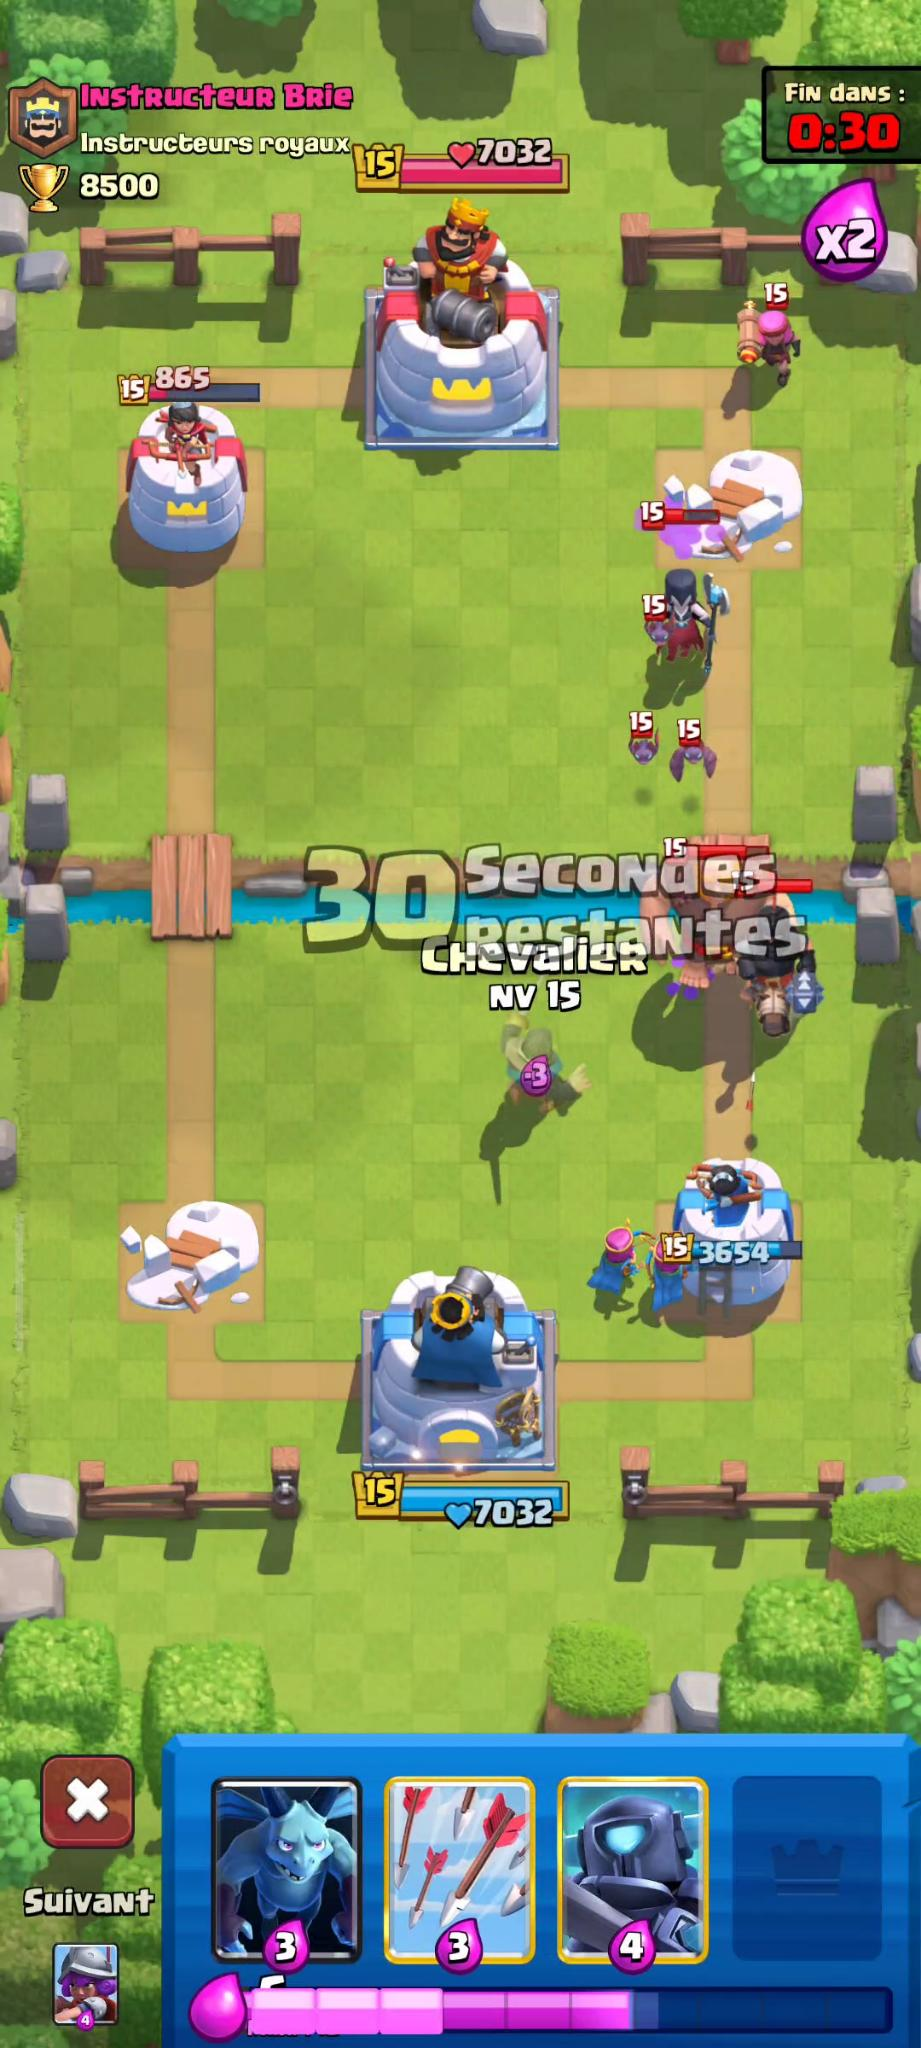archere: (644, 1220, 708, 1317), (589, 1217, 644, 1300)
bat: (626, 589, 691, 660), (670, 725, 708, 789), (628, 716, 664, 771)
chevalier: (500, 997, 589, 1119)
